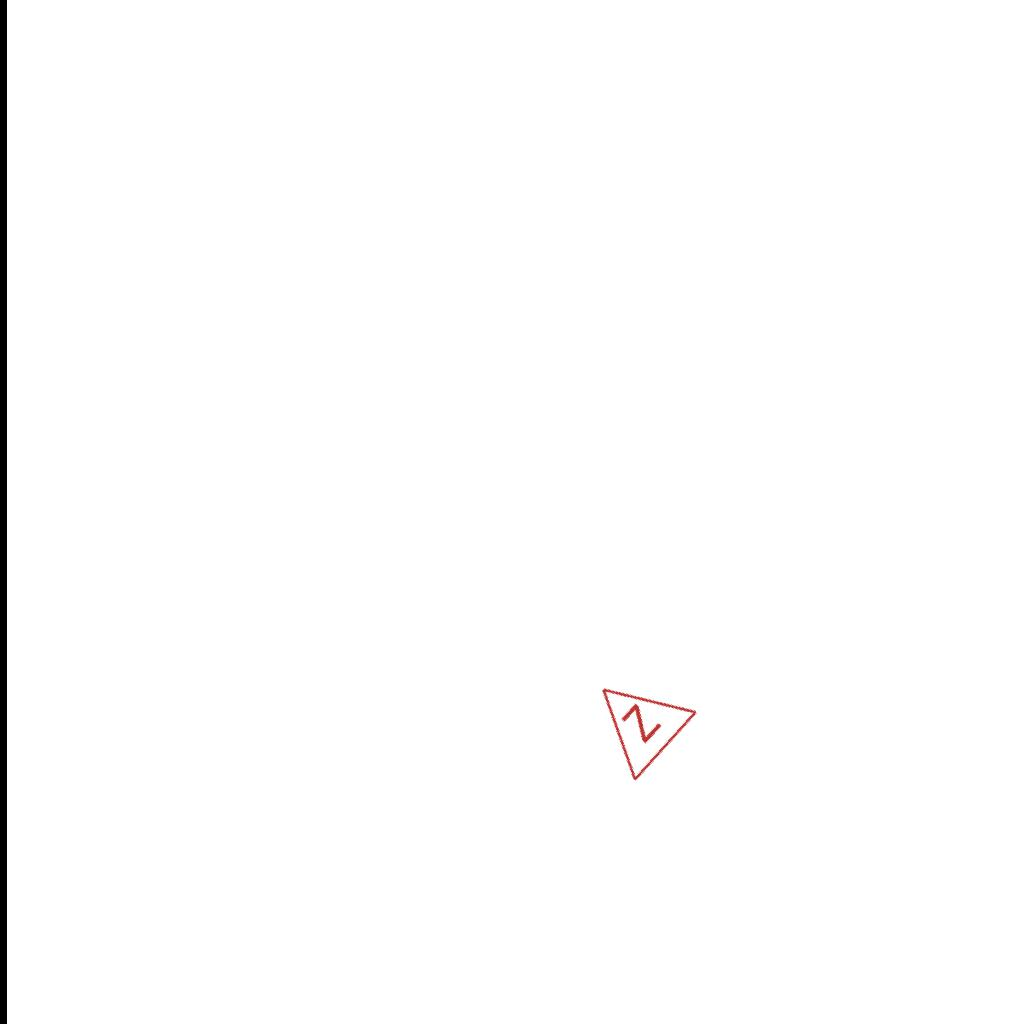Zimmersignalleuchte: (564, 649, 704, 789)
